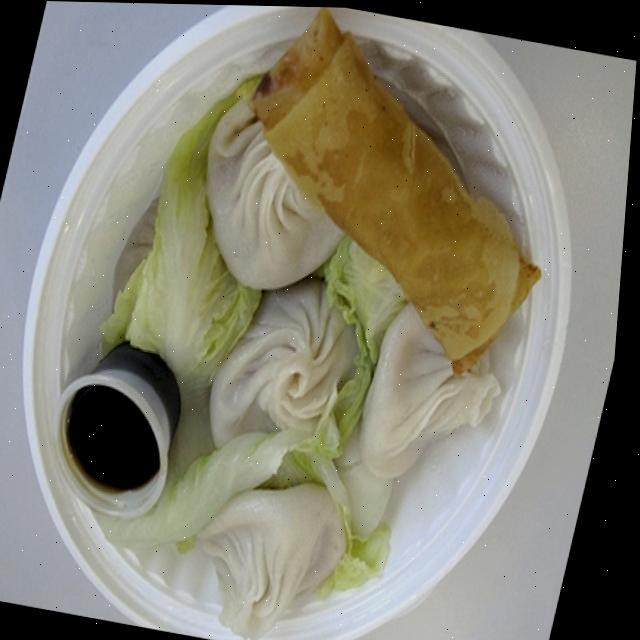带馅早点: (0, 0, 622, 640)
